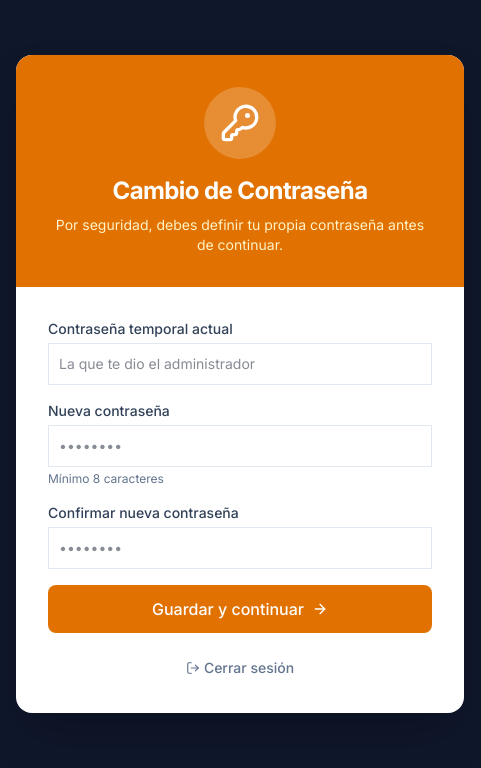
Test: ForcePasswordChange › rejects new passwords shorter than 8 characters
This screenshot has width=481, height=768.
Type "cambiar123" into the password field labelled "Contraseña temporal actual" at (240, 364), box x1=48 y1=343 x2=432 y2=385
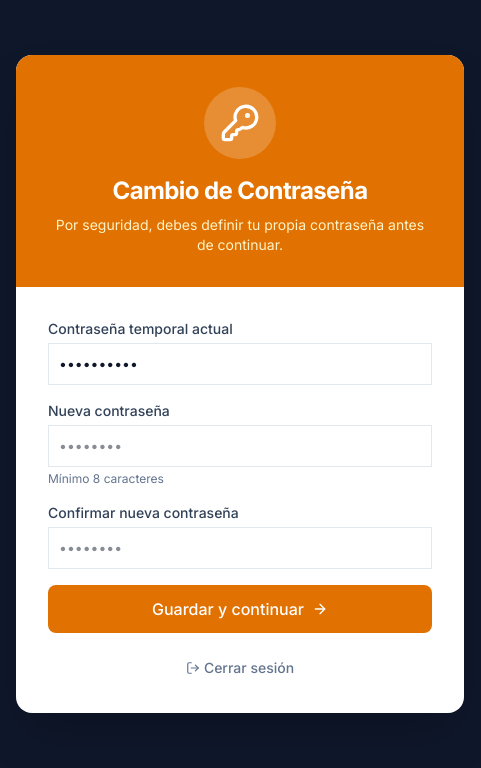
Type "short1" into the password field labelled "Nueva contraseña" at (240, 446), box x1=48 y1=425 x2=432 y2=467
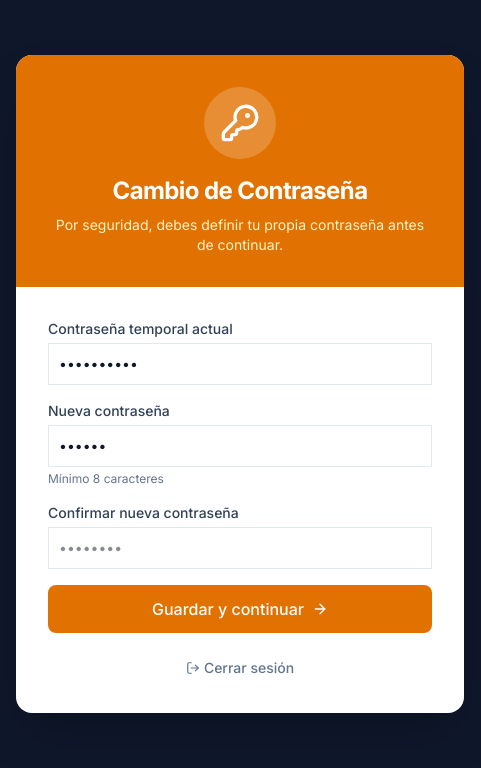
Type "short1" into the password field labelled "Confirmar nueva contraseña" at (240, 548), box x1=48 y1=527 x2=432 y2=569
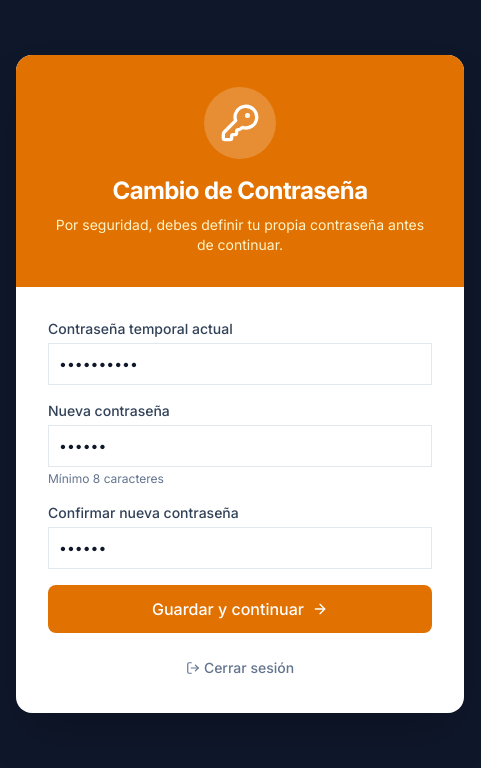
Click the button "Guardar y continuar" at (240, 609), box x1=48 y1=585 x2=432 y2=633
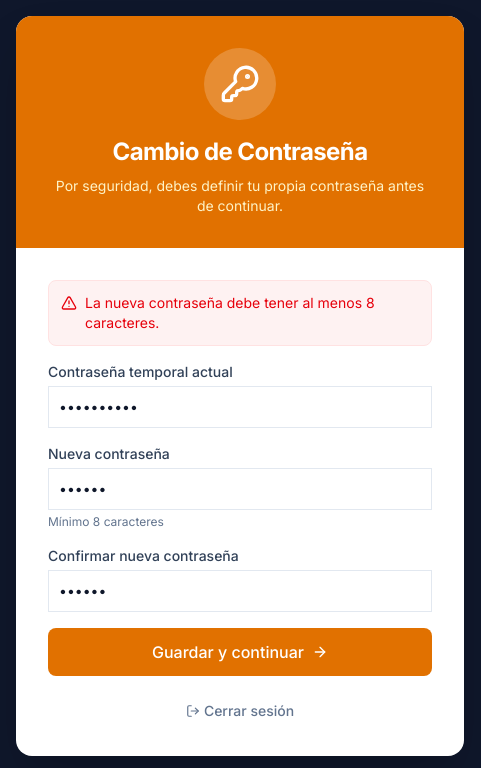
Expected: the text "La nueva contraseña debe tener al menos 8 caracteres." is shown, x1=85 y1=293 x2=419 y2=333
